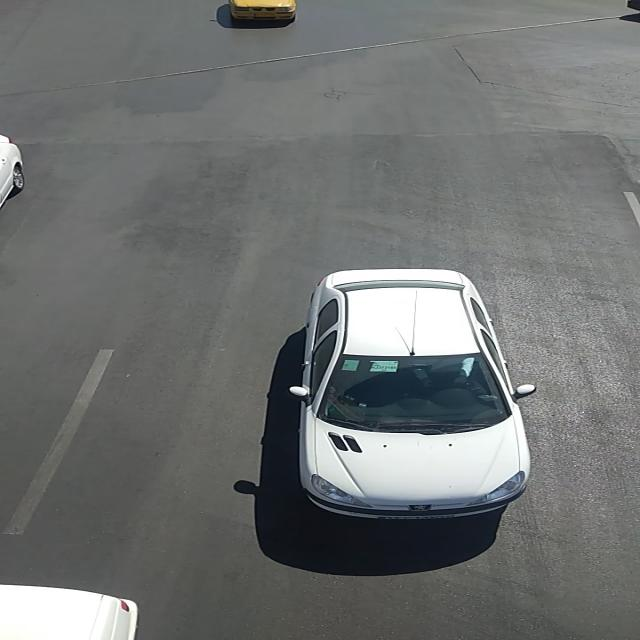car: (290, 270, 537, 526)
